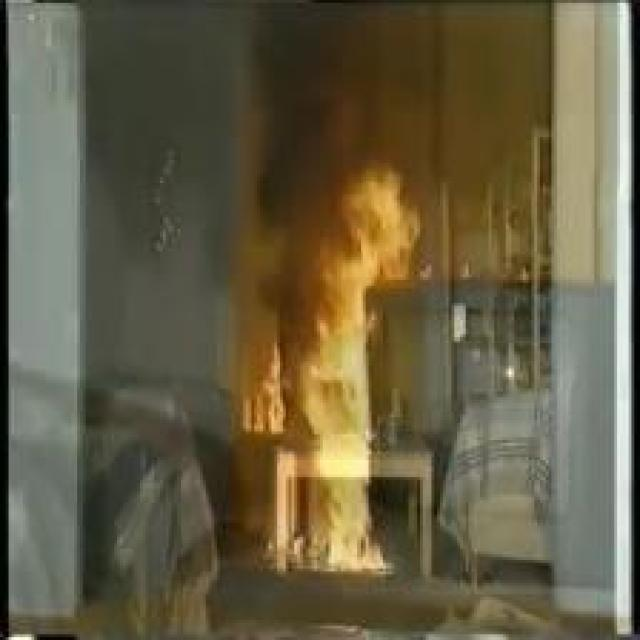fire: (240, 177, 414, 574)
smoke: (244, 0, 386, 341)
